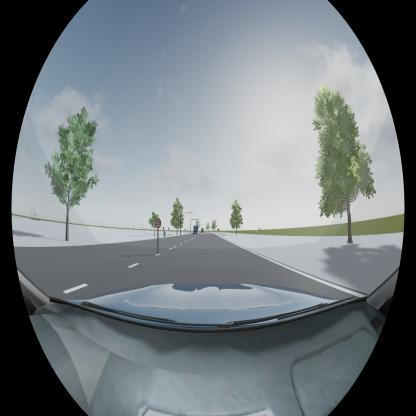Speed Limit 20: (154, 219, 162, 228)
